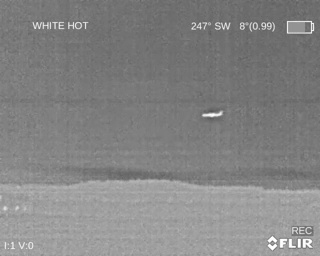AIRPLANE: (201, 110, 223, 118)
